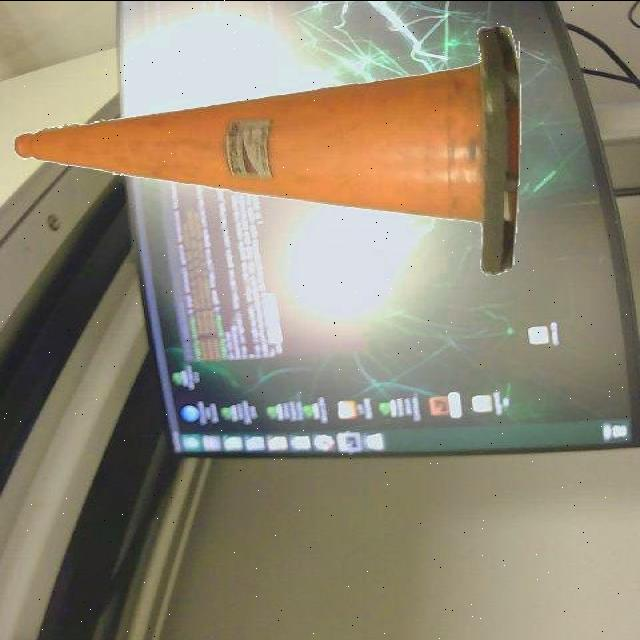traffic cone: (4, 21, 539, 283)
